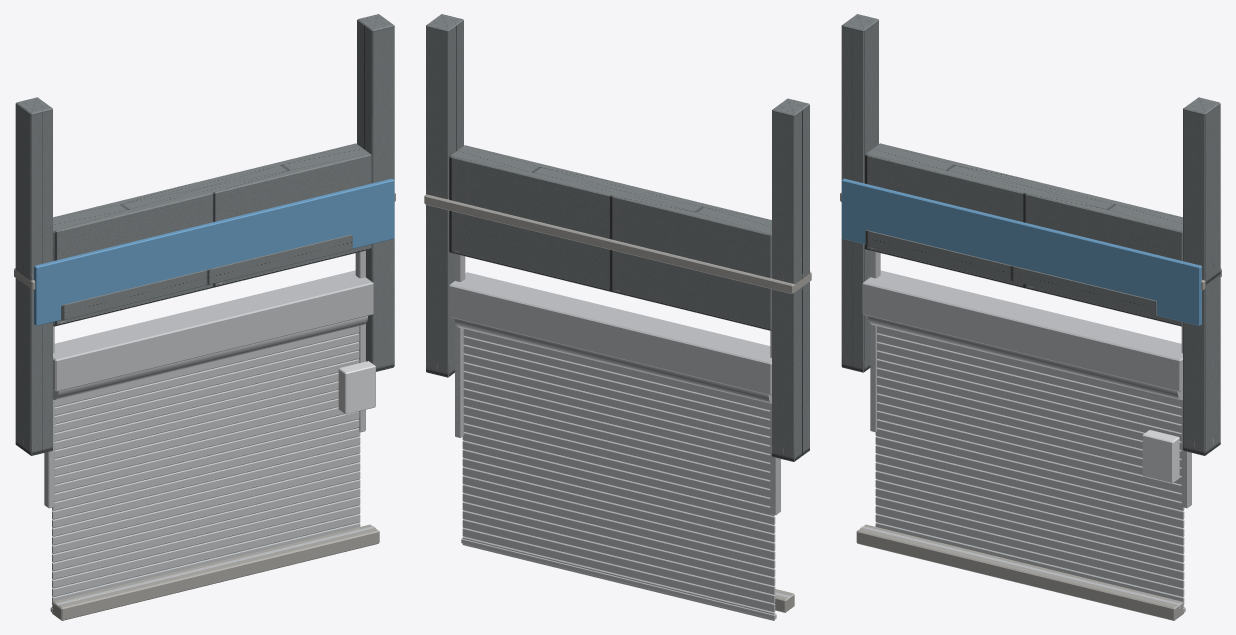
Rendered from shopfront-shutter.glb.
3 renders of one model, left to right at view 1: azimuth 30°, elevation 25°; view 2: azimuth 150°, elevation 25°; view 3: azimuth 330°, elevation 25°, orthographic.
Parts seen in each view (by area): view 1: shopfront-shutter, shutter; view 2: shopfront-shutter, shutter; view 3: shopfront-shutter, shutter.
Boxes of the visible parts, x1,y1,x2,y2 form: shopfront-shutter: (14,14,395,620); shutter: (50,326,360,613); shopfront-shutter: (424,14,811,612); shutter: (461,329,776,620); shopfront-shutter: (840,14,1221,620); shutter: (875,326,1185,613).
Bounding box in the file's own units: 4 × 5.38 × 0.48.
Materials: 5 (2 with a texture image).
